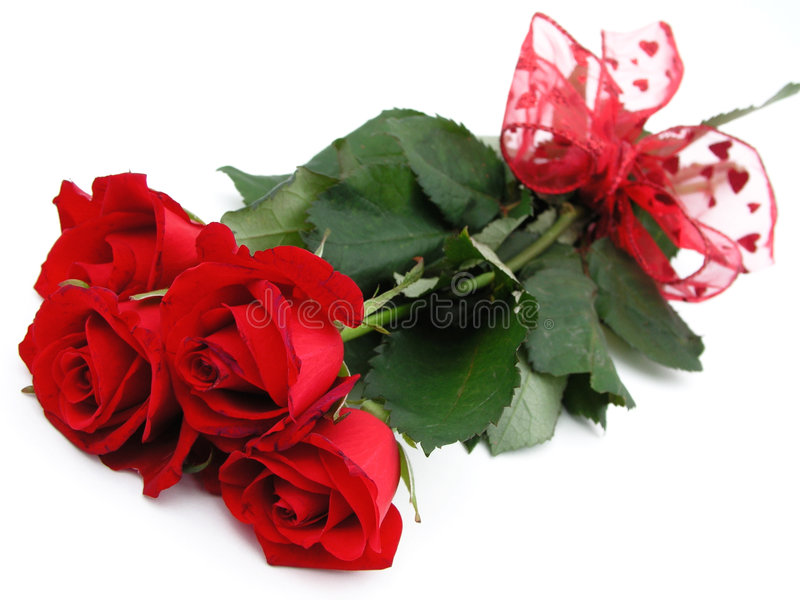RedRose: (10, 268, 211, 486), (169, 228, 351, 444), (205, 404, 427, 576), (28, 161, 213, 312)
